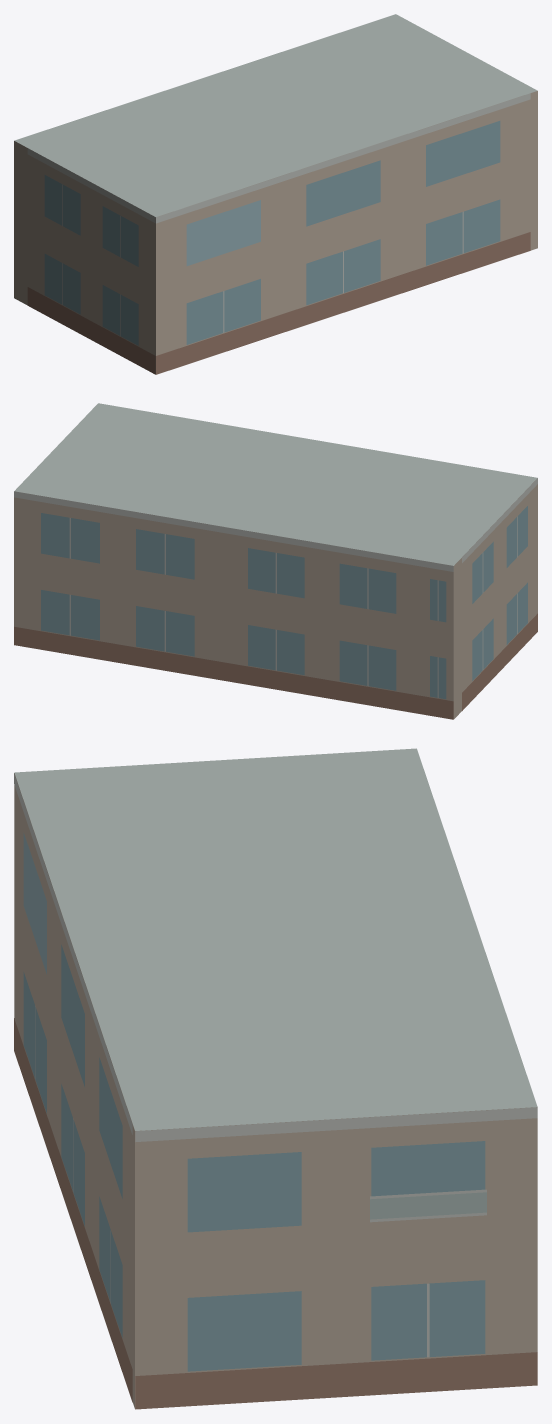
The model's file is survey-upis-32614118.glb.
3 renders of one model, top to bottom at view 1: azimuth 30°, elevation 25°; view 2: azimuth 150°, elevation 25°; view 3: azimuth 270°, elevation 25°, orthographic. The views are drawn at different scales.
Visible parts, largest first — view 1: survey-upis-32614118.tmp; view 2: survey-upis-32614118.tmp; view 3: survey-upis-32614118.tmp.
Part boxes in pixels (left/top/right/bottom): survey-upis-32614118.tmp: left=14, top=14, right=537, bottom=374; survey-upis-32614118.tmp: left=14, top=403, right=537, bottom=719; survey-upis-32614118.tmp: left=14, top=748, right=537, bottom=1409.
Bounding box in the file's own units: 17.99 × 6.1 × 10.41.
